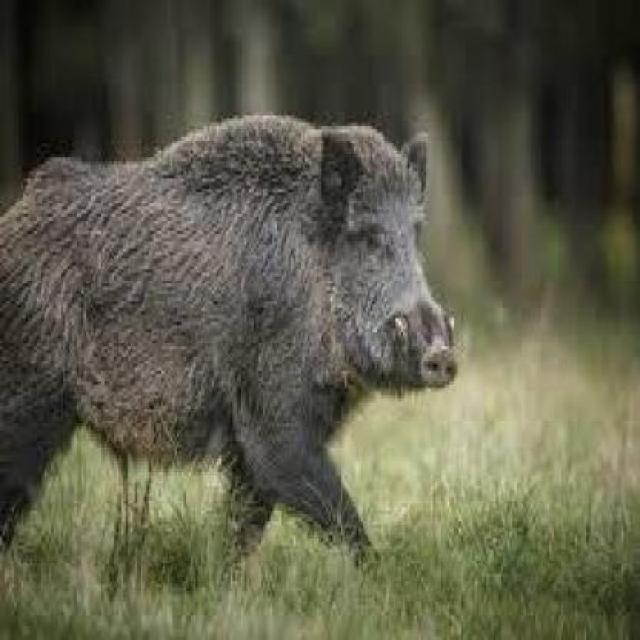wildboar: (0, 108, 458, 586)
